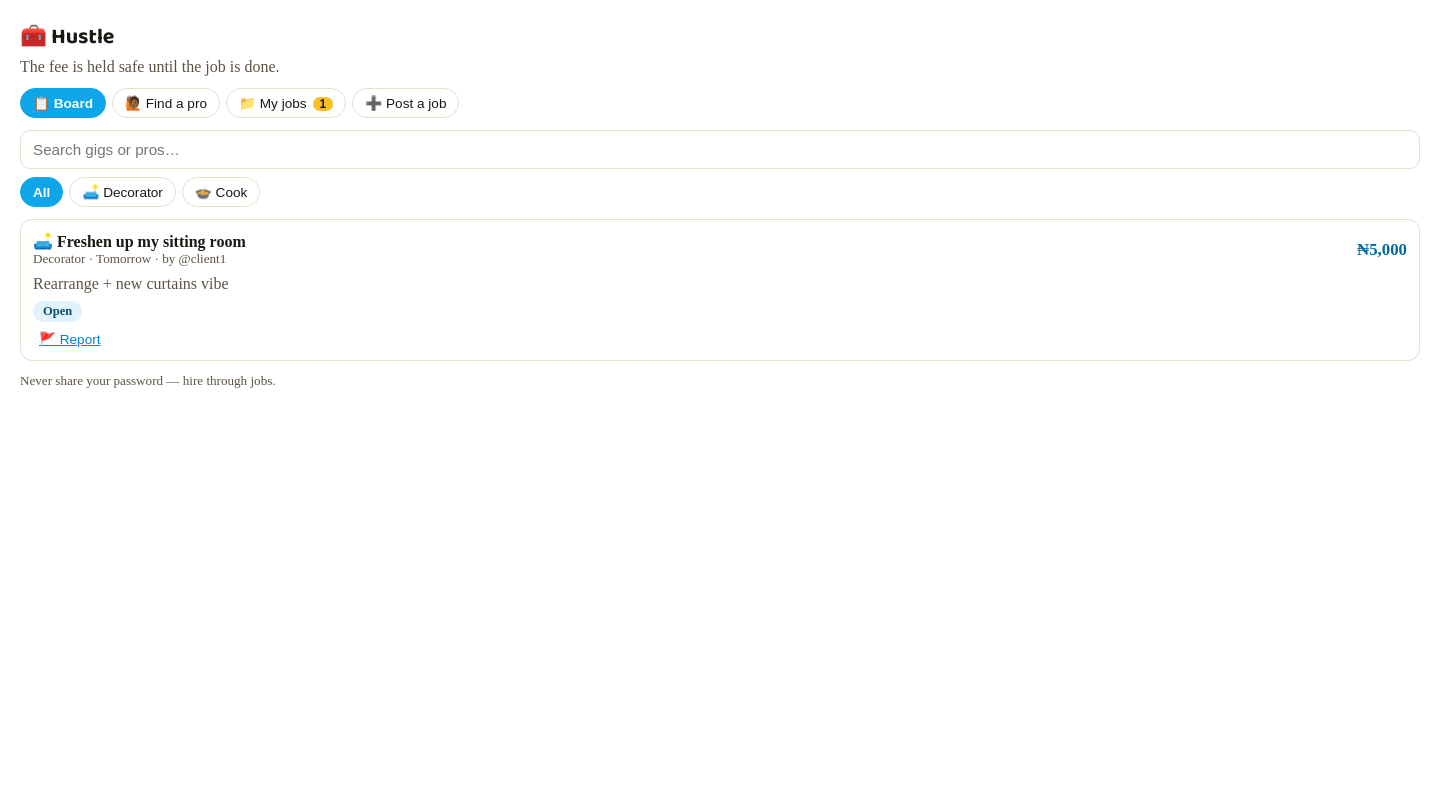
Test: HustleApp › post-a-job validation errors surface as a toast
The image size is (1440, 810).
Click the tab "➕ Post a job": [406, 103] box [352,88,460,118]
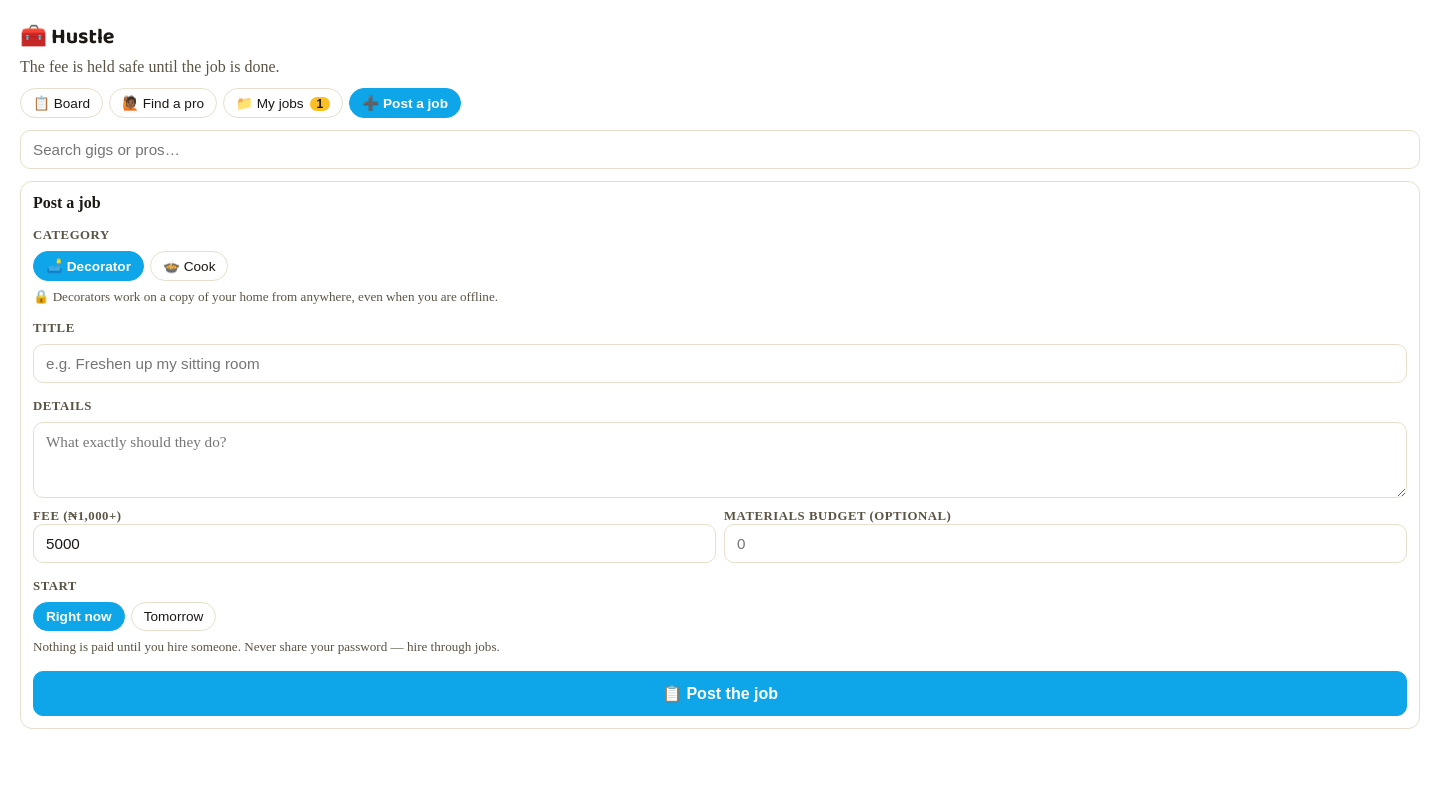
In the field with placeholder "e.g. Freshen up my sitting room": [720, 364] box [33,344,1407,383], type "Test job"
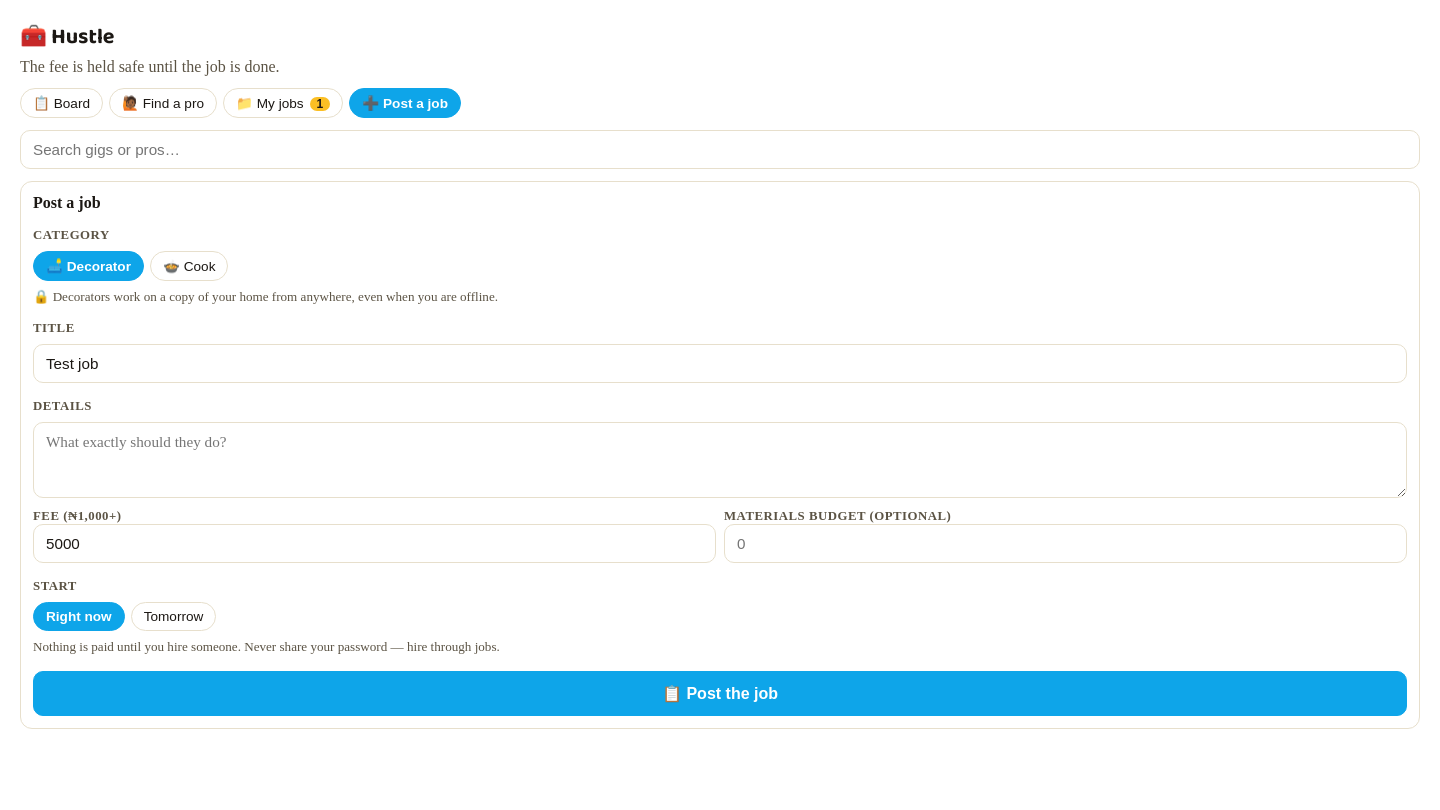
Click the button "📋 Post the job": [720, 694] box [33,671,1407,716]
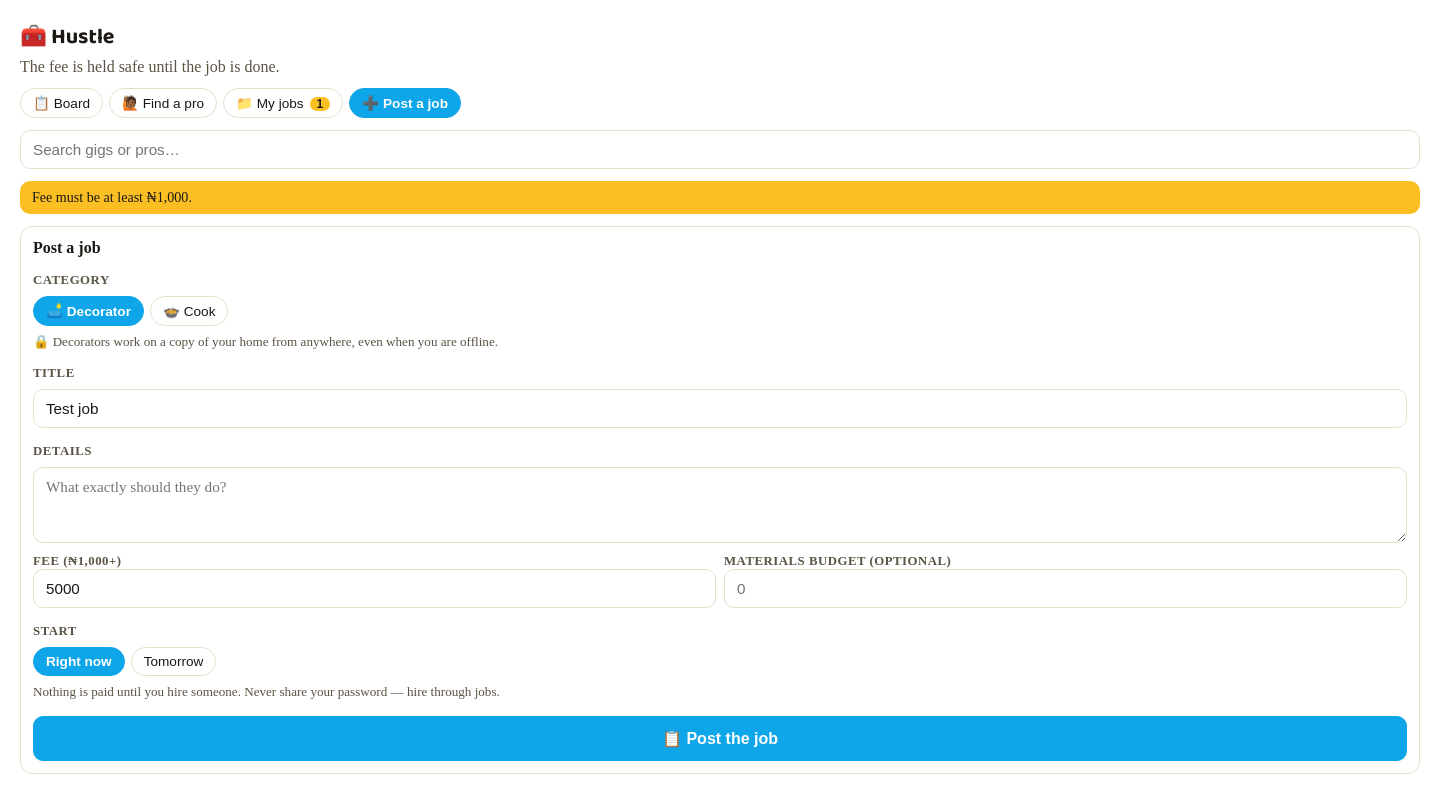
Result: the message "Fee must be at least ₦1,000." is shown at [20,181,1420,214]
Result: the message shows "₦1,000" at [32,189,192,205]
